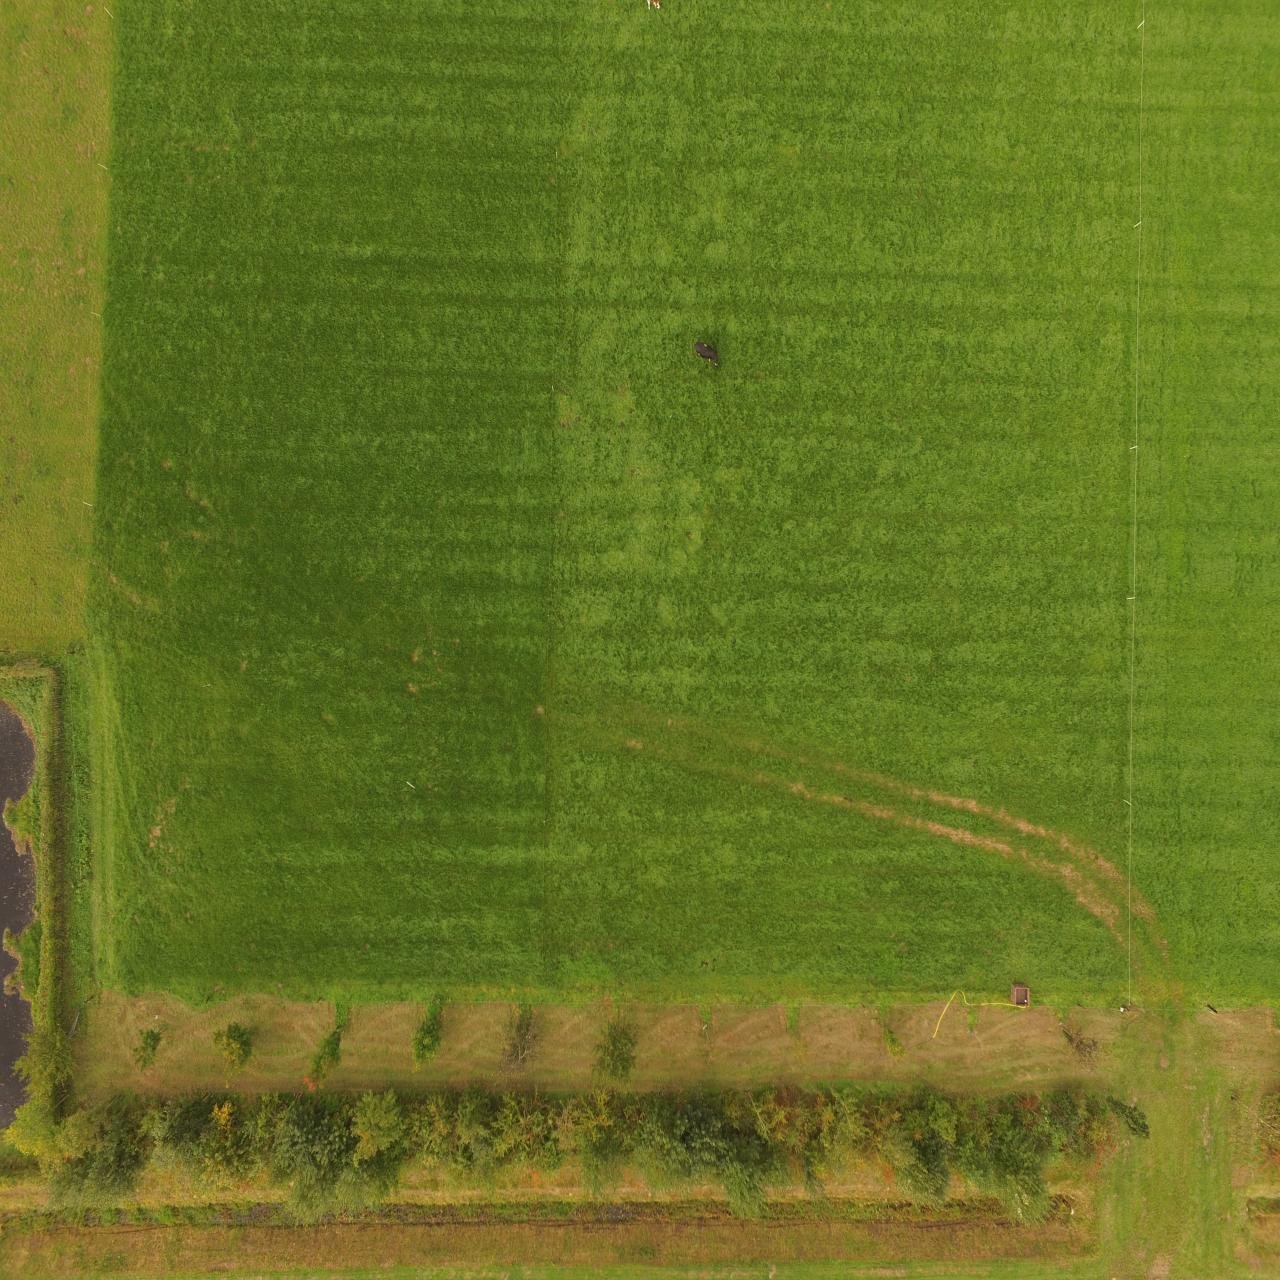cow: (694, 339, 722, 373)
